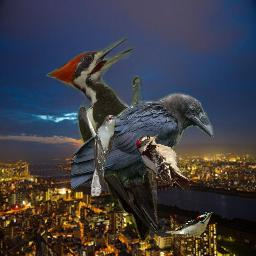Crow: (71, 92, 214, 191)
Cuckoo: (90, 114, 121, 196)
Woodpecker: (46, 37, 158, 242), (135, 134, 190, 190), (165, 210, 215, 238)
